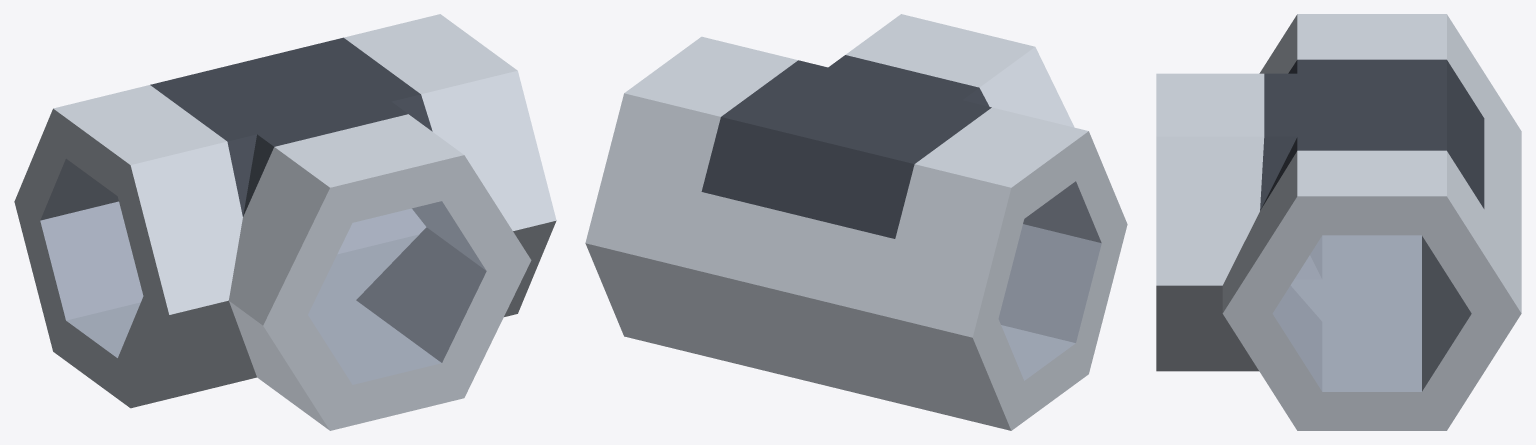
The model's file is pipe_split.obj.
3 views of the same model, side by side, from view 1: azimuth 30°, elevation 25°; view 2: azimuth 150°, elevation 25°; view 3: azimuth 270°, elevation 25° (orthographic). The views are drawn at different scales.
Visible parts, largest first — view 1: pipe_split; view 2: pipe_split; view 3: pipe_split.
Boxes of the visible parts, x1,y1,x2,y2 form: pipe_split: (14,14,556,430); pipe_split: (585,14,1127,430); pipe_split: (1156,14,1521,430).
Bounding box in the file's own units: 1 × 0.6 × 0.8464.
